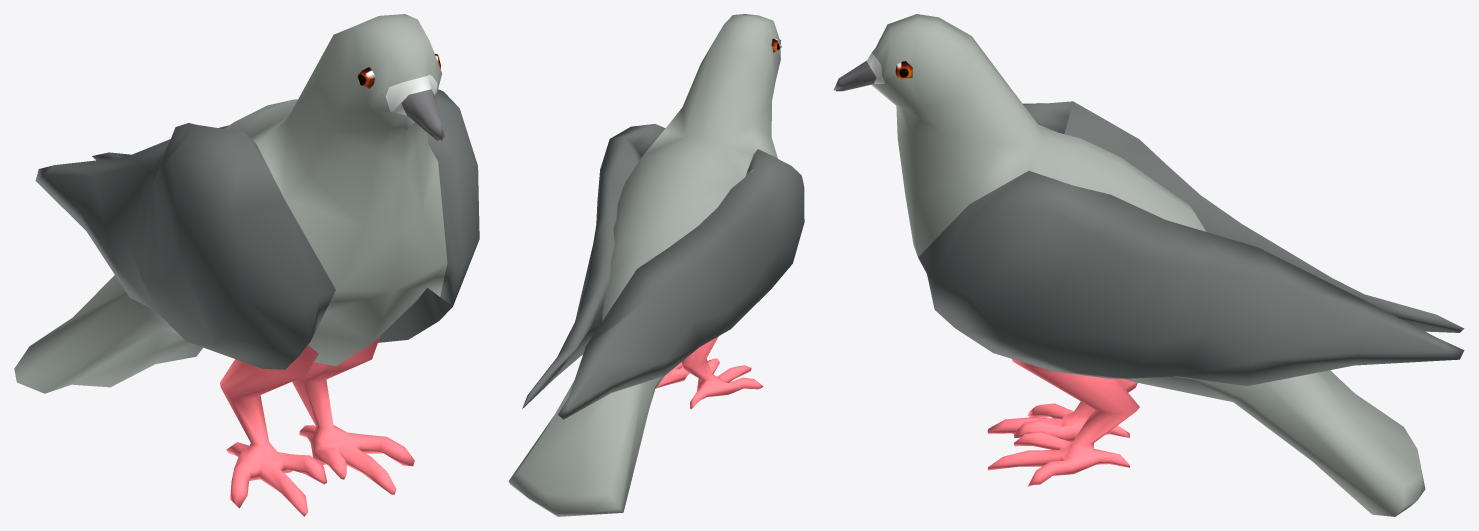
The model's file is Pigeon.glb.
The picture shows the model from 3 angles, left to right: view 1: azimuth 30°, elevation 25°; view 2: azimuth 150°, elevation 25°; view 3: azimuth 270°, elevation 25°; orthographic projection. The views are drawn at different scales.
Visible parts, largest first — view 1: Pigeon; view 2: Pigeon; view 3: Pigeon.
Boxes of the visible parts, x1=… form: Pigeon: x1=14, y1=14, x2=479, y2=516; Pigeon: x1=508, y1=14, x2=804, y2=516; Pigeon: x1=833, y1=14, x2=1464, y2=516.
Size of what is drawn, in the model's own units: 0.2456 by 0.4965 by 0.5928.
1 material, 1 textured.
